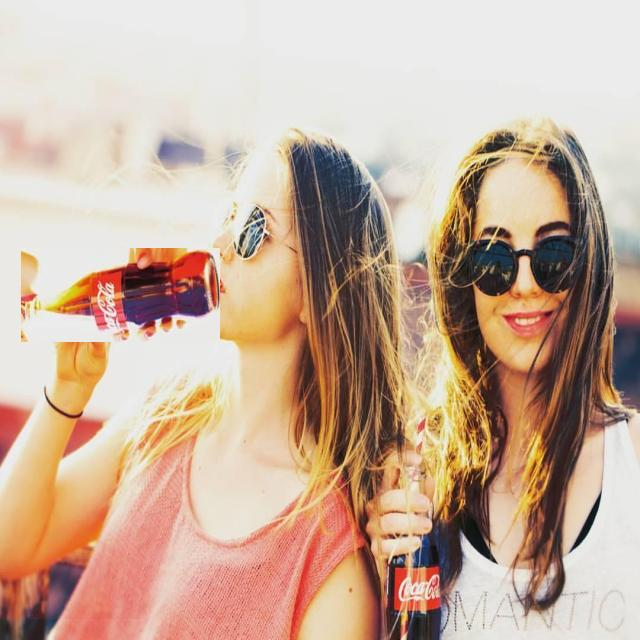coca-cola: (21, 248, 220, 342), (386, 457, 442, 640)
